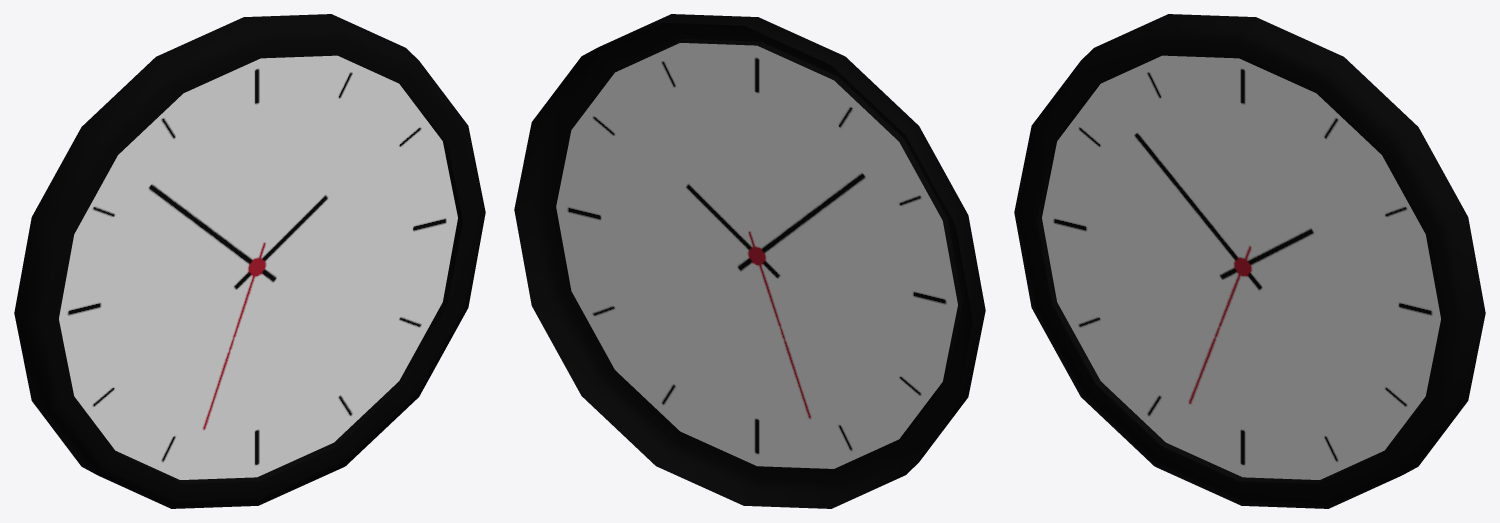
Rendered from Clock.fbx.
The picture shows the model from 3 angles, left to right: view 1: azimuth 30°, elevation 25°; view 2: azimuth 150°, elevation 25°; view 3: azimuth 330°, elevation 25°; orthographic projection.
Parts seen in each view (by area): view 1: Clock; view 2: Clock; view 3: Clock.
Boxes of the visible parts, x1=… form: Clock: x1=14, y1=14, x2=485, y2=508; Clock: x1=514, y1=14, x2=985, y2=508; Clock: x1=1014, y1=14, x2=1485, y2=508.
Size of the model in its own units: 41.22 by 41.22 by 2.67.
